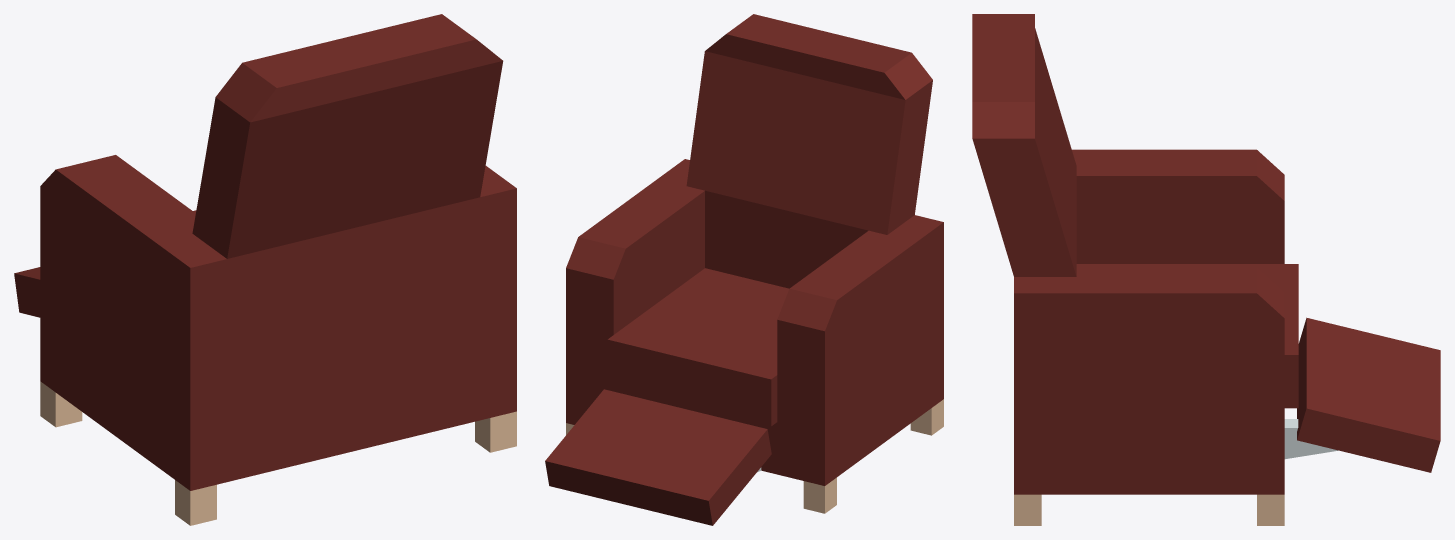
Rendered from Furniture_Recliner_LowPoly.fbx.
3 views of the same model, side by side, from view 1: azimuth 30°, elevation 25°; view 2: azimuth 150°, elevation 25°; view 3: azimuth 270°, elevation 25° (orthographic). The views are drawn at different scales.
Parts seen in each view (by area): view 1: loungeChairRelax; view 2: loungeChairRelax; view 3: loungeChairRelax.
Part boxes in pixels (bbox=[...]): loungeChairRelax: bbox=[14, 14, 516, 525]; loungeChairRelax: bbox=[545, 14, 943, 525]; loungeChairRelax: bbox=[972, 14, 1440, 525].
Size of the model in its own units: 130 by 167 by 179.
